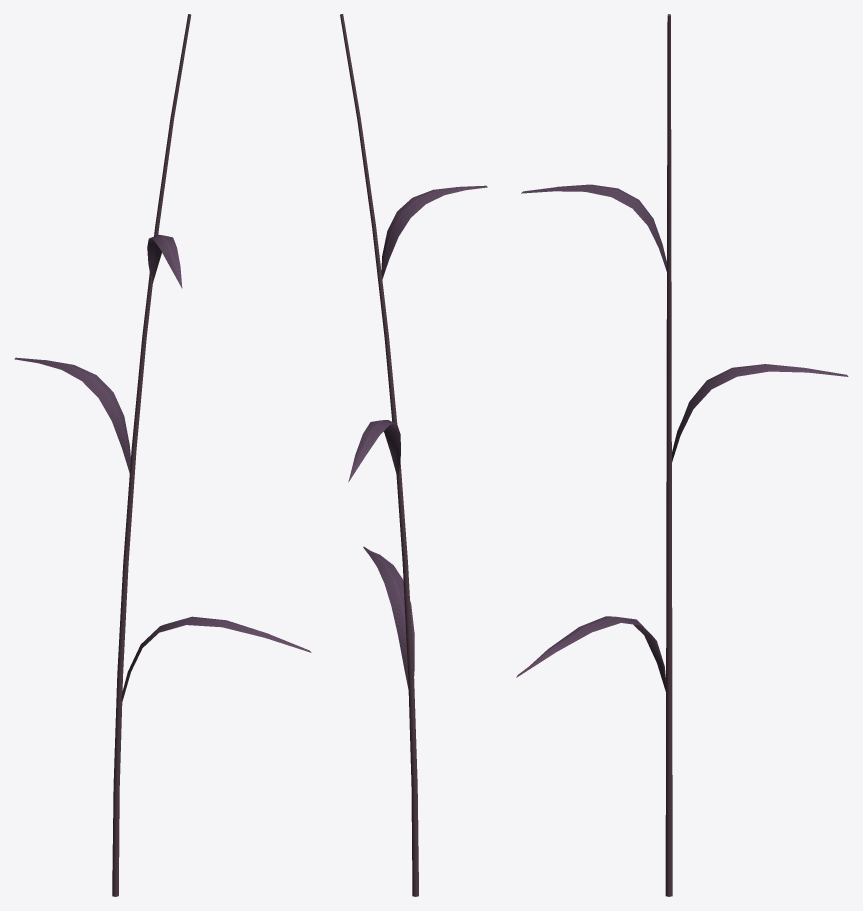
Rendered from single_stem_11.glb.
The picture shows the model from 3 angles, left to right: view 1: azimuth 30°, elevation 25°; view 2: azimuth 150°, elevation 25°; view 3: azimuth 270°, elevation 25°; orthographic projection. The views are drawn at different scales.
Visible parts, largest first — view 1: export; view 2: export; view 3: export.
Boxes of the visible parts, x1=… form: export: x1=14, y1=14, x2=311, y2=896; export: x1=340, y1=14, x2=487, y2=896; export: x1=516, y1=14, x2=848, y2=896.
Bounding box in the file's own units: 0.1714 × 1 × 0.3283.
Materials: 2 (2 with a texture image).
